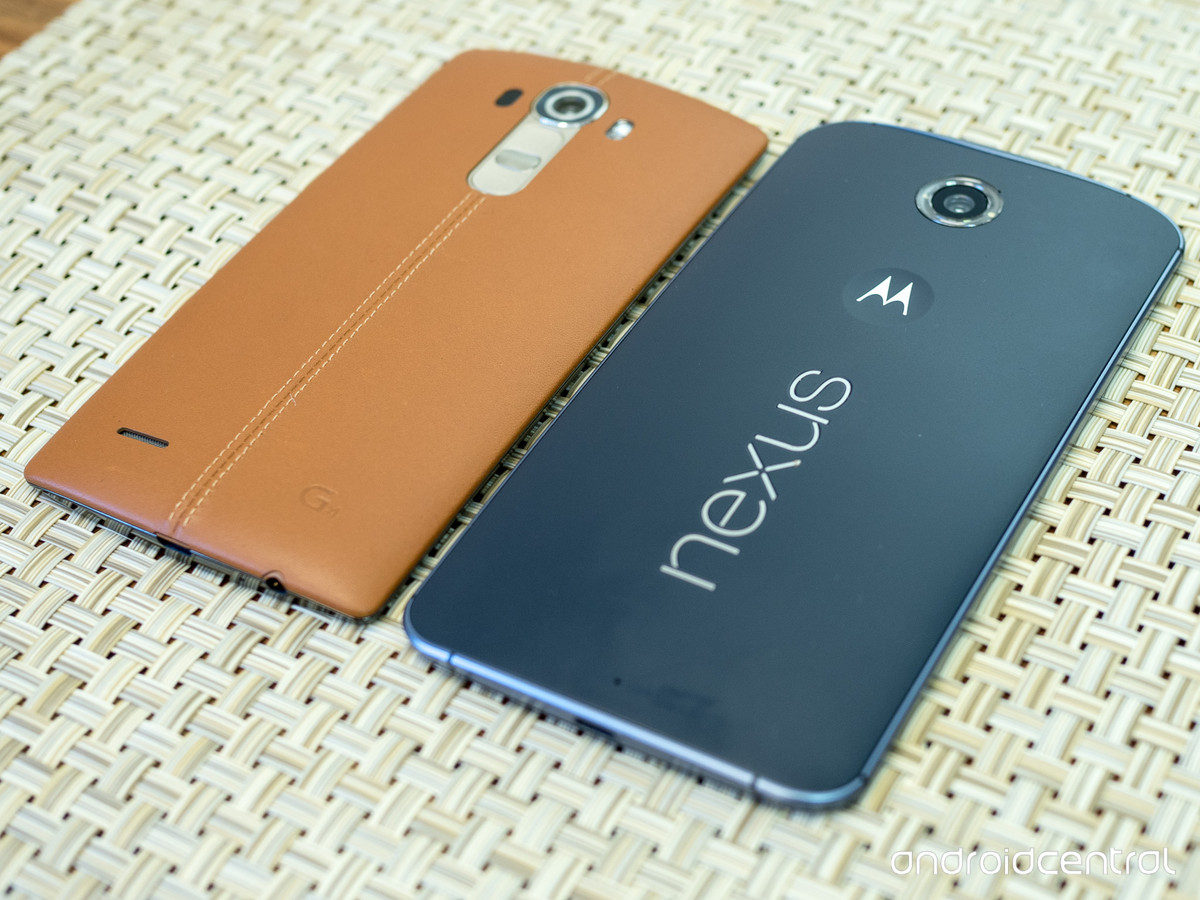smartphone: (404, 122, 1186, 809), (22, 49, 770, 620)
